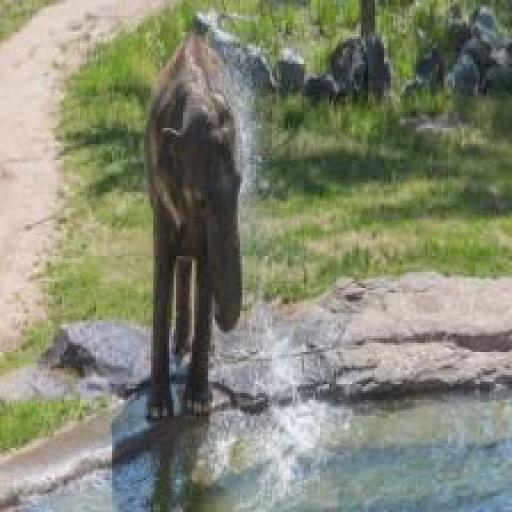Elephant: (142, 32, 242, 425)
